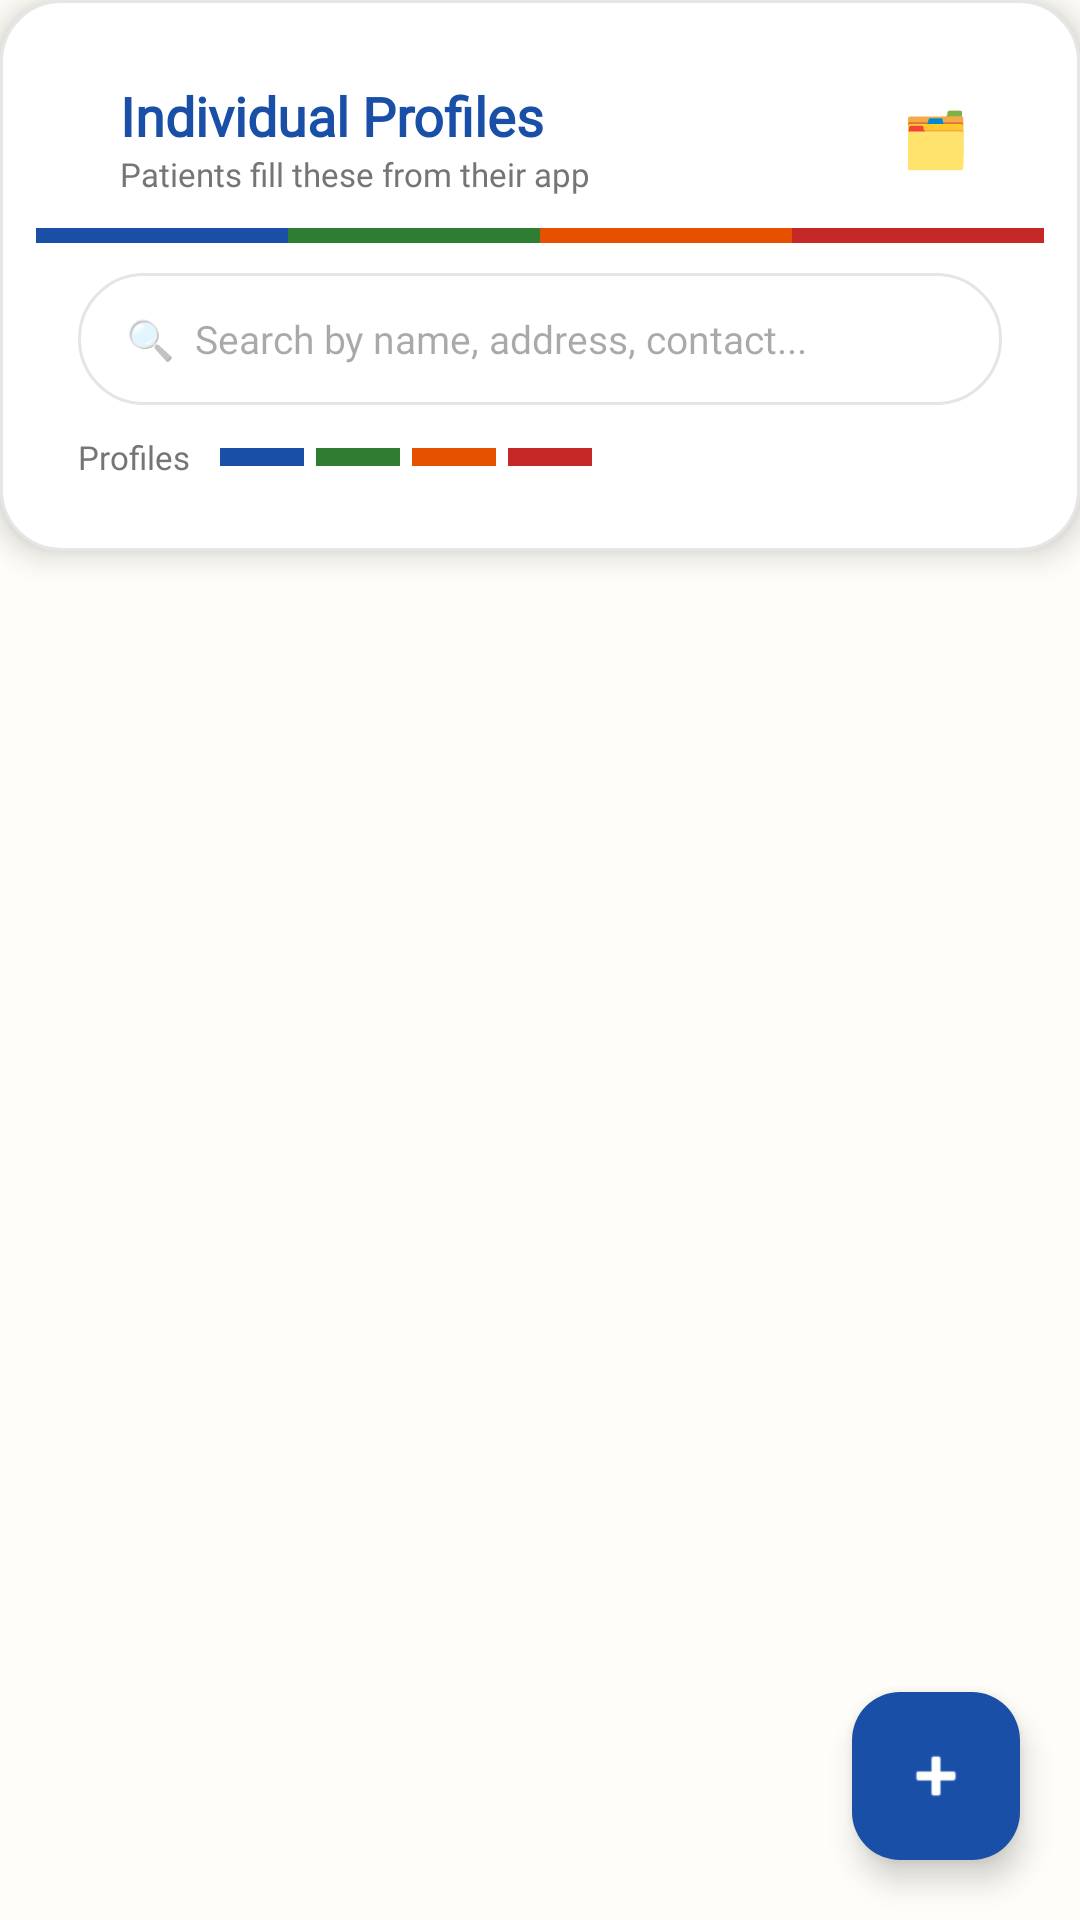

Point at icon controls on the screen. Image size 1080x1920, points as (x,y).
New Profile: (936,1776)
